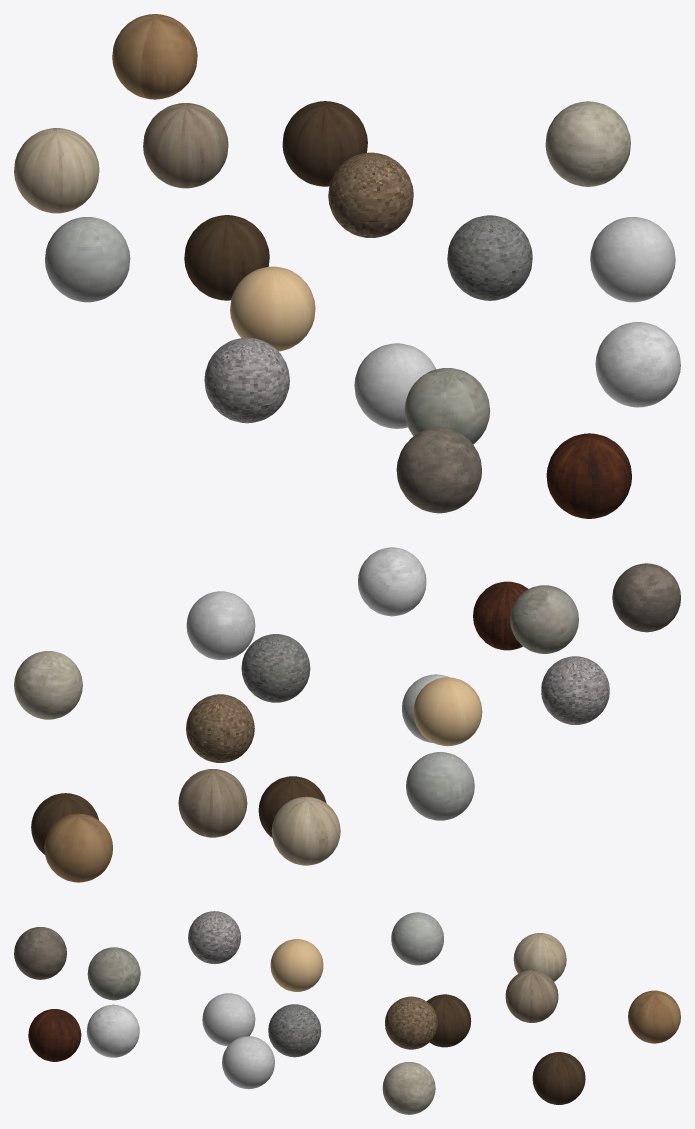
Rendered from progressive.gltf.
3 views of the same model, one above another, from view 1: azimuth 30°, elevation 25°; view 2: azimuth 150°, elevation 25°; view 3: azimuth 270°, elevation 25° (orthographic). The views are drawn at different scales.
Parts seen in each view (by area): view 1: Sphere.006, Sphere.004, Sphere.002, Sphere.018, Sphere.007, Sphere.016, Sphere.019, Sphere.009, Sphere.010, Sphere.011, Sphere.001, Sphere.008 (+5 smaller); view 2: Sphere.004, Sphere.011, Sphere.006, Sphere.001, Sphere.003, Sphere.007, Sphere.002, Sphere.009, Sphere.008, Sphere.019, Sphere.018, Sphere.016 (+5 smaller); view 3: Sphere.006, Sphere.005, Sphere.017, Sphere.003, Sphere.004, Sphere.007, Sphere.018, Sphere.002, Sphere.008, Sphere.010, Sphere.009, Sphere.019 (+5 smaller).
Boxes of the visible parts, x1,y1,x2,y2 form: Sphere.006: (112,14,197,99); Sphere.004: (447,215,532,300); Sphere.002: (45,217,130,302); Sphere.018: (595,322,680,407); Sphere.007: (143,103,228,188); Sphere.016: (204,337,289,423); Sphere.019: (590,217,675,302); Sphere.009: (545,101,630,186); Sphere.010: (546,433,631,518); Sphere.011: (396,427,481,513); Sphere.001: (14,128,99,213); Sphere.008: (328,152,413,237); Sphere.004: (241,634,310,702); Sphere.011: (612,563,680,632); Sphere.006: (44,813,112,882); Sphere.001: (271,796,340,865); Sphere.003: (413,677,482,746); Sphere.007: (178,769,247,837); Sphere.002: (406,752,474,820); Sphere.009: (14,651,82,719); Sphere.008: (186,694,254,762); Sphere.019: (186,591,255,659); Sphere.018: (358,547,426,616); Sphere.016: (541,656,609,724); Sphere.006: (628,990,680,1043); Sphere.005: (532,1052,585,1104); Sphere.017: (87,947,140,1000); Sphere.003: (270,939,323,991); Sphere.004: (268,1004,321,1057); Sphere.007: (505,970,558,1022); Sphere.018: (86,1004,139,1057); Sphere.002: (391,912,443,965); Sphere.008: (385,996,437,1049); Sphere.010: (28,1009,81,1061); Sphere.009: (382,1062,435,1114); Sphere.019: (222,1036,274,1089).
Bounding box in the file's own units: 15.43 × 3.38 × 25.12.
17 materials, 17 textured.
